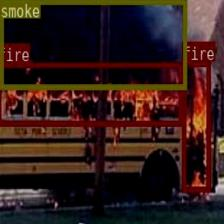fire: (0, 61, 181, 125), (182, 60, 210, 190)
smoke: (0, 0, 186, 89)
